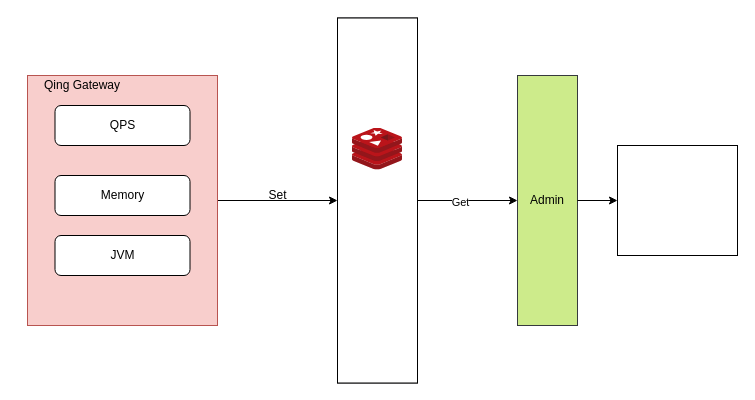
The diagram is 755 pixels wide and 400 high, and some of its shapes have lost their labels. The box of each missing label's shape, as (x1, y1, x2, y2) in pixels:
front-Echart: (616, 144, 738, 256)
Redis: (336, 17, 418, 383)
